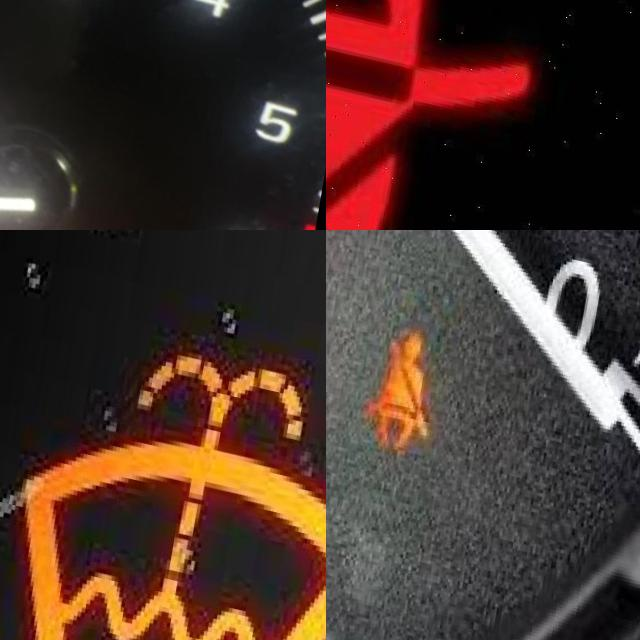Seat Belt: (326, 0, 547, 230), (372, 312, 452, 438)
Washer Fluid: (2, 314, 326, 640)
